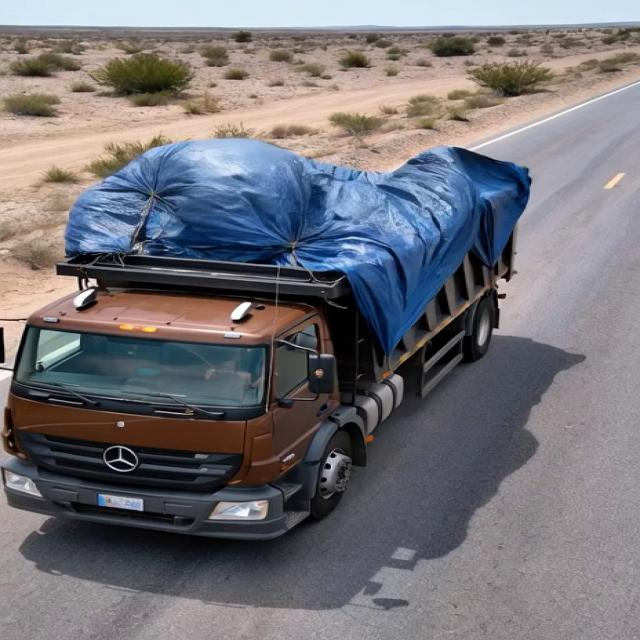trailer: (58, 142, 534, 287)
truck: (0, 122, 550, 528)
